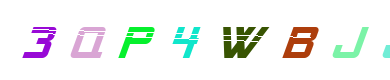3: (1, 0, 81, 80)
4: (147, 0, 227, 80)
B: (200, 0, 280, 80)
J: (260, 0, 340, 80), (286, 0, 366, 80)
P: (96, 0, 176, 80)
Q: (69, 0, 149, 80)
W: (154, 0, 234, 80)
